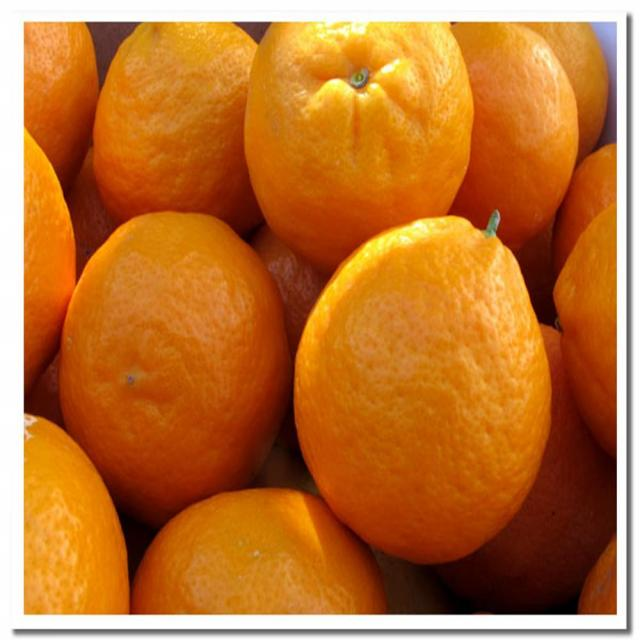10_tangerine: (284, 203, 556, 567), (58, 203, 294, 522), (243, 21, 480, 278), (94, 21, 279, 239), (124, 484, 392, 614), (442, 24, 580, 253)
